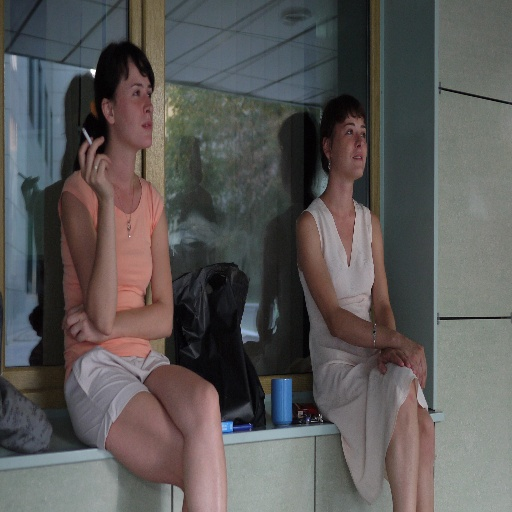hand: (69, 129, 102, 196), (60, 302, 109, 345), (402, 336, 427, 390), (377, 349, 412, 376)
